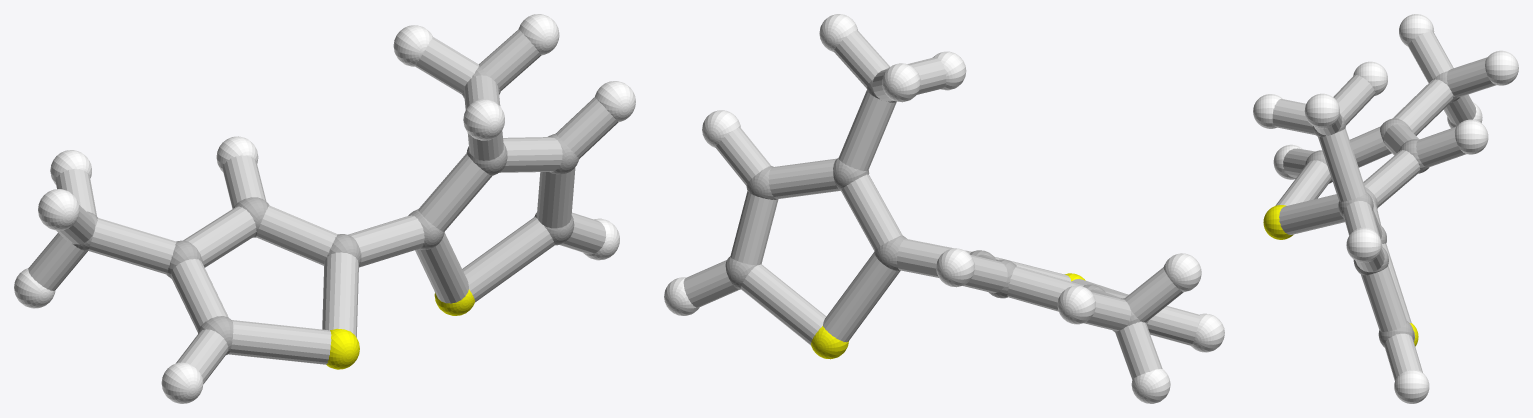
Rendered from Methylthiophene_Phi_5_Theta_260_Methylthiophene.glb.
3 renders of one model, left to right at view 1: azimuth 30°, elevation 25°; view 2: azimuth 150°, elevation 25°; view 3: azimuth 270°, elevation 25°, orthographic. The views are drawn at different scales.
Parts seen in each view (by area): view 1: grp7965, grp3621, grp1, grp7241; view 2: grp7965, grp3621, grp1, grp7241; view 3: grp7965, grp3621, grp1, grp7241.
Boxes of the visible parts, x1,y1,x2,y2 form: grp7965: (28, 29, 618, 383); grp3621: (14, 14, 635, 403); grp1: (72, 66, 579, 354); grp7241: (326, 289, 475, 369); grp7965: (683, 30, 1200, 379); grp3621: (664, 14, 1224, 403); grp1: (725, 67, 1148, 332); grp7241: (811, 273, 1085, 359); grp7965: (1272, 31, 1496, 380); grp3621: (1253, 14, 1518, 403); grp1: (1305, 71, 1459, 347); grp7241: (1263, 205, 1418, 346).
Bounding box in the file's own units: 9.5 × 5.12 × 4.52.
